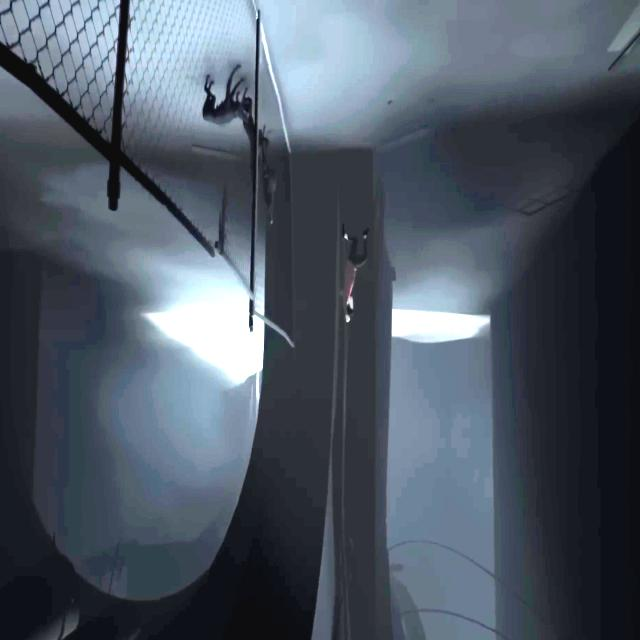boy: (341, 222, 370, 322)
dog: (202, 64, 248, 126), (249, 124, 274, 229)
